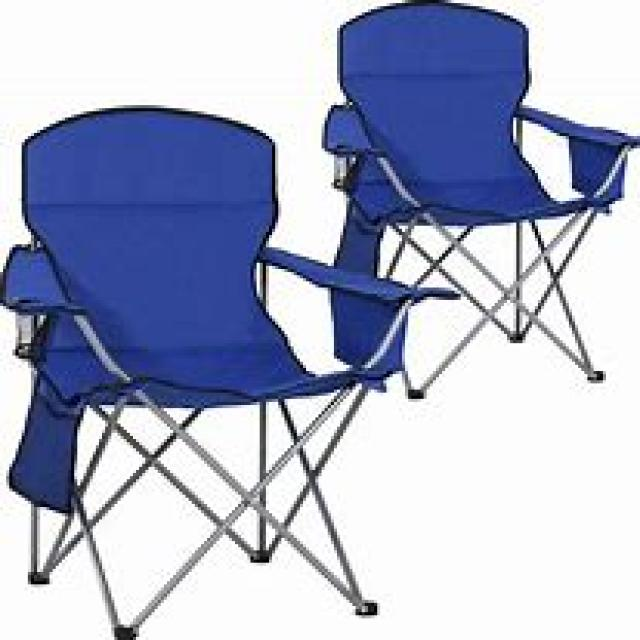chair: (0, 102, 461, 637), (321, 0, 637, 396)
